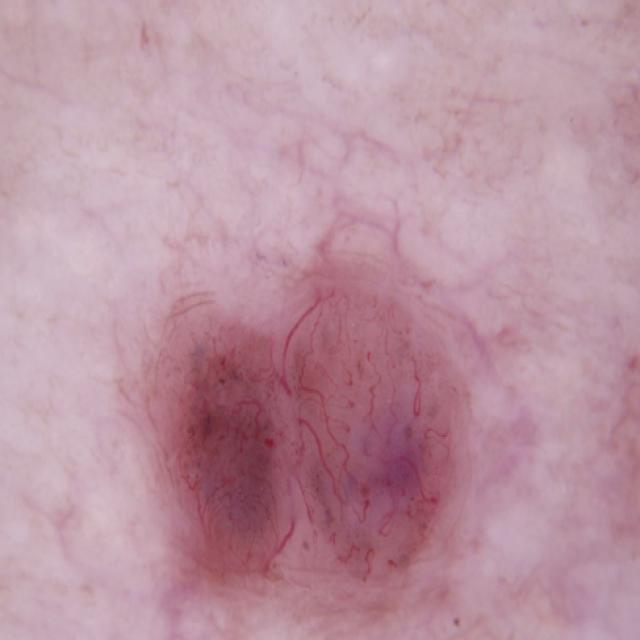Carcinoma: (147, 258, 565, 624)
